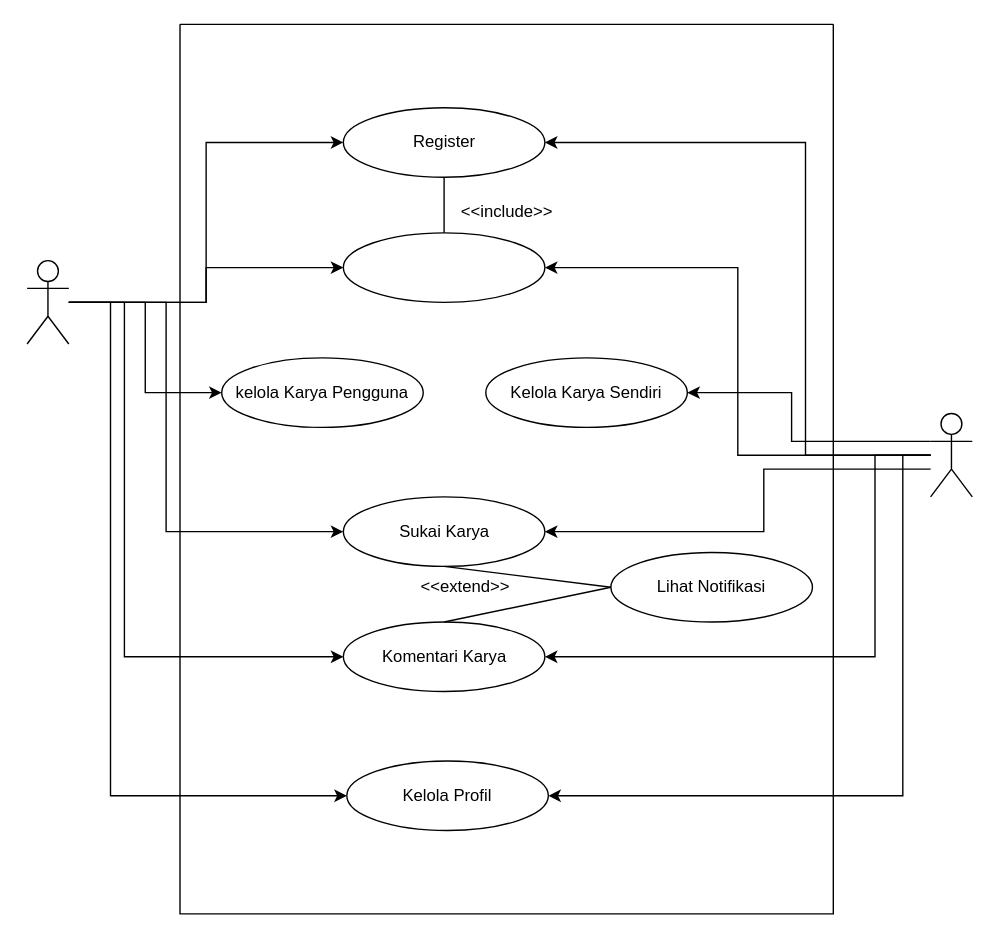
Some shapes in this 997 by 938 pixel diagram are drawn without their labels. The centre of each missing label's shape, as x and y in pixels:
Admin: pixel 47 301
Login: pixel 443 266
User: pixel 950 454
